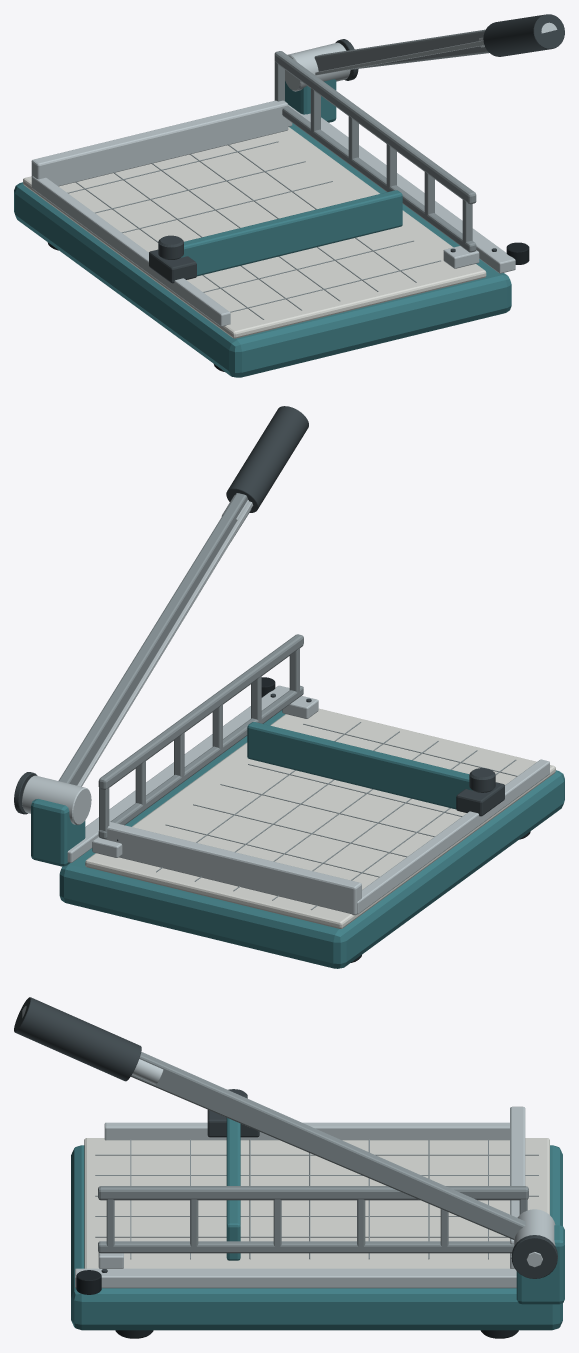
File: city-guillotine-paper-cutter.glb
The picture shows the model from 3 angles, top to bottom: view 1: azimuth 30°, elevation 25°; view 2: azimuth 150°, elevation 25°; view 3: azimuth 270°, elevation 25°; orthographic projection. The views are drawn at different scales.
Visible parts, largest first — view 1: Assembly | Warm ivory molded housing, Assembly | Muted teal enamel, Assembly | Satin machined metal, Assembly | Cool grey equipment shell, Assembly | Graphite internal fittings, Assembly | Matte rubber contact surfaces; view 2: Assembly | Warm ivory molded housing, Assembly | Muted teal enamel, Assembly | Satin machined metal, Assembly | Cool grey equipment shell, Assembly | Graphite internal fittings; view 3: Assembly | Warm ivory molded housing, Assembly | Muted teal enamel, Assembly | Cool grey equipment shell, Assembly | Satin machined metal, Assembly | Graphite internal fittings, Assembly | Matte rubber contact surfaces.
Part boxes in pixels (box(x1,y1,x2,y2)): Assembly | Warm ivory molded housing: box(23, 127, 486, 338); Assembly | Muted teal enamel: box(14, 79, 511, 377); Assembly | Satin machined metal: box(31, 22, 557, 326); Assembly | Cool grey equipment shell: box(67, 29, 488, 319); Assembly | Graphite internal fittings: box(149, 14, 564, 283); Assembly | Matte rubber contact surfaces: box(47, 242, 529, 371); Assembly | Warm ivory molded housing: box(85, 708, 555, 928); Assembly | Muted teal enamel: box(31, 710, 564, 968); Assembly | Satin machined metal: box(22, 495, 549, 915); Assembly | Cool grey equipment shell: box(58, 493, 517, 909); Assembly | Graphite internal fittings: box(14, 406, 504, 841); Assembly | Warm ivory molded housing: box(84, 1138, 549, 1268); Assembly | Muted teal enamel: box(71, 1118, 564, 1330); Assembly | Cool grey equipment shell: box(95, 1052, 538, 1259); Assembly | Satin machined metal: box(22, 1006, 555, 1288); Assembly | Graphite internal fittings: box(14, 997, 557, 1278); Assembly | Matte rubber contact surfaces: box(76, 1270, 518, 1338).
Bounding box in the file's own units: 0.5595 × 0.5224 × 0.7392.
